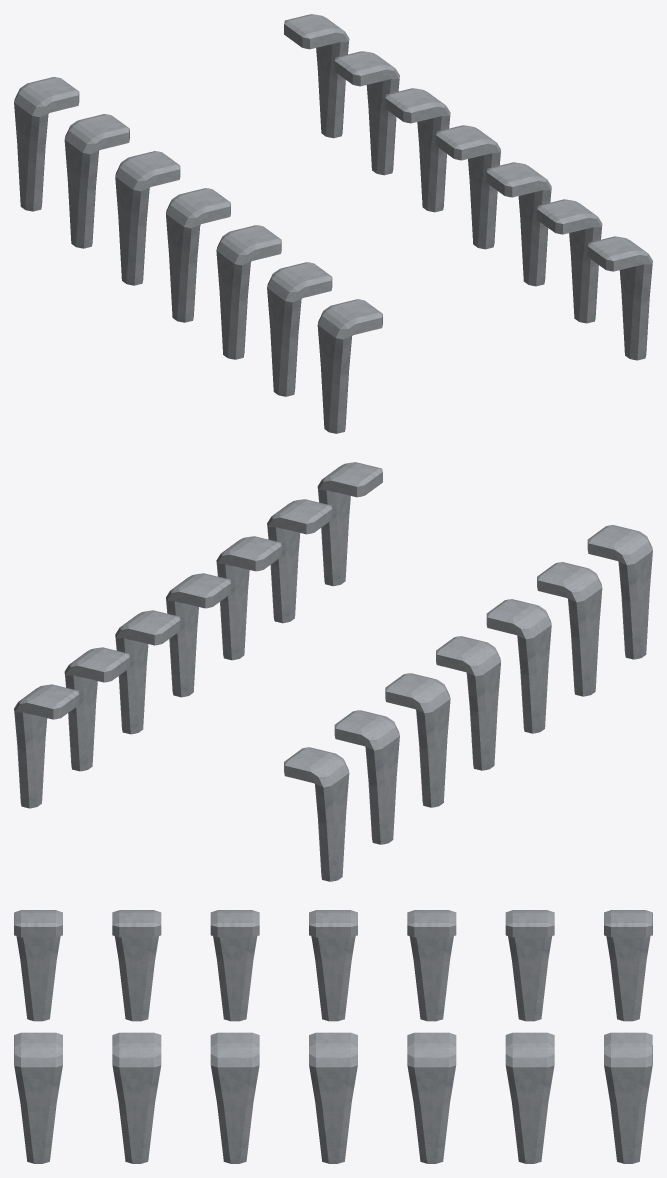
The model's file is LogicLegs.fbx.
3 renders of one model, top to bottom at view 1: azimuth 30°, elevation 25°; view 2: azimuth 150°, elevation 25°; view 3: azimuth 270°, elevation 25°, orthographic. The views are drawn at different scales.
Visible parts, largest first — view 1: Leg; view 2: Leg; view 3: Leg.
Part boxes in pixels (box(x1,y1,x2,y2)): Leg: box(14, 14, 652, 433); Leg: box(14, 462, 652, 881); Leg: box(14, 910, 652, 1163).
Bounding box in the file's own units: 1.3 × 0.4544 × 2.33.
